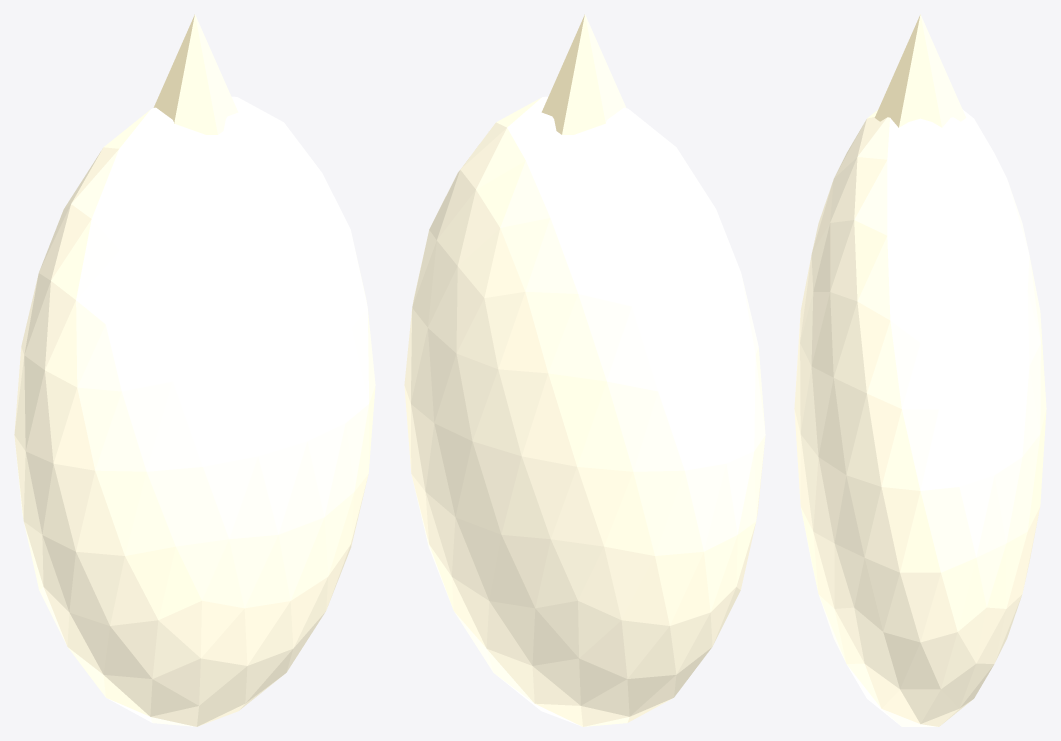
Rendered from halloween_seed.glb.
The picture shows the model from 3 angles, left to right: view 1: azimuth 30°, elevation 25°; view 2: azimuth 150°, elevation 25°; view 3: azimuth 270°, elevation 25°; orthographic projection.
Visible parts, largest first — view 1: PumpkinSeed; view 2: PumpkinSeed; view 3: PumpkinSeed.
Boxes of the visible parts, left/top/right/bottom form: PumpkinSeed: left=14, top=14, right=375, bottom=726; PumpkinSeed: left=404, top=14, right=765, bottom=726; PumpkinSeed: left=794, top=14, right=1046, bottom=726.
Bounding box in the file's own units: 0.68 × 1.36 × 0.44.
